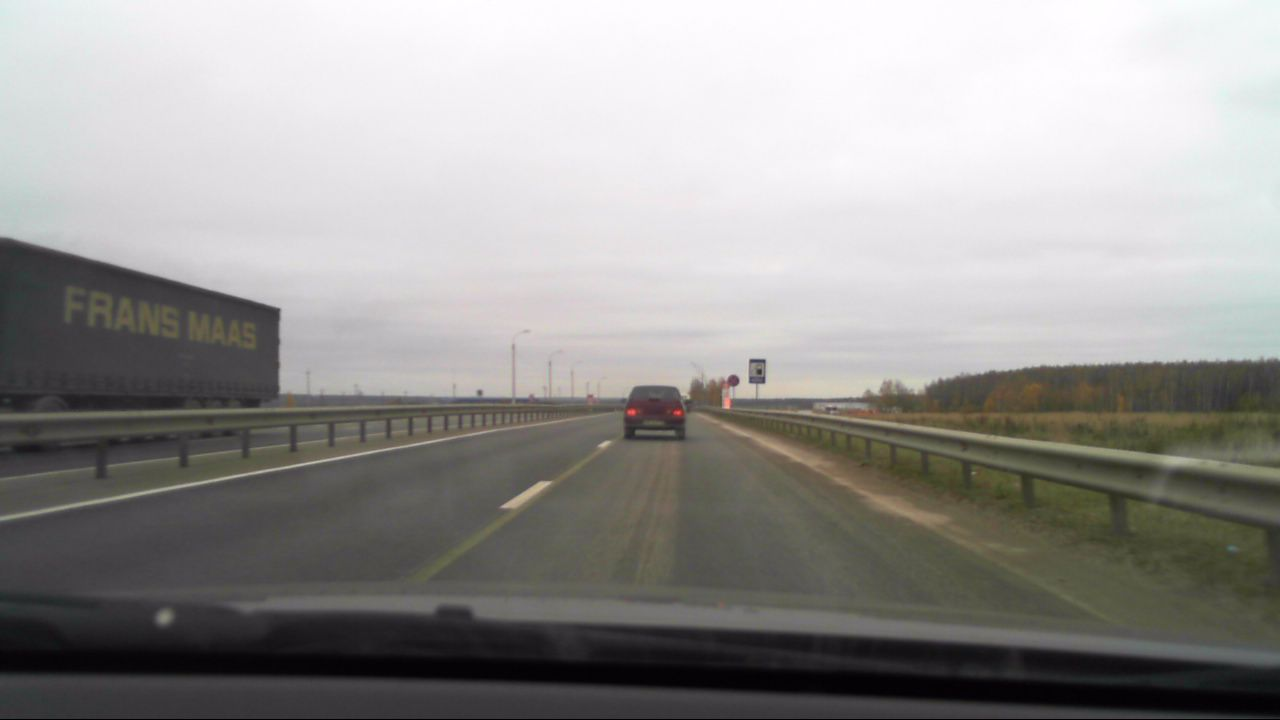No Parking: (724, 371, 741, 389)
